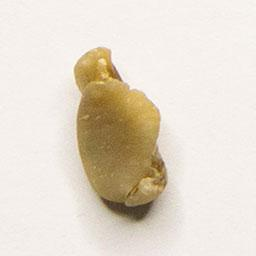defect: (63, 40, 175, 213)
